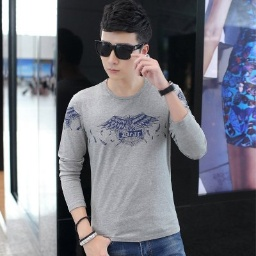face: (97, 2, 151, 80)
